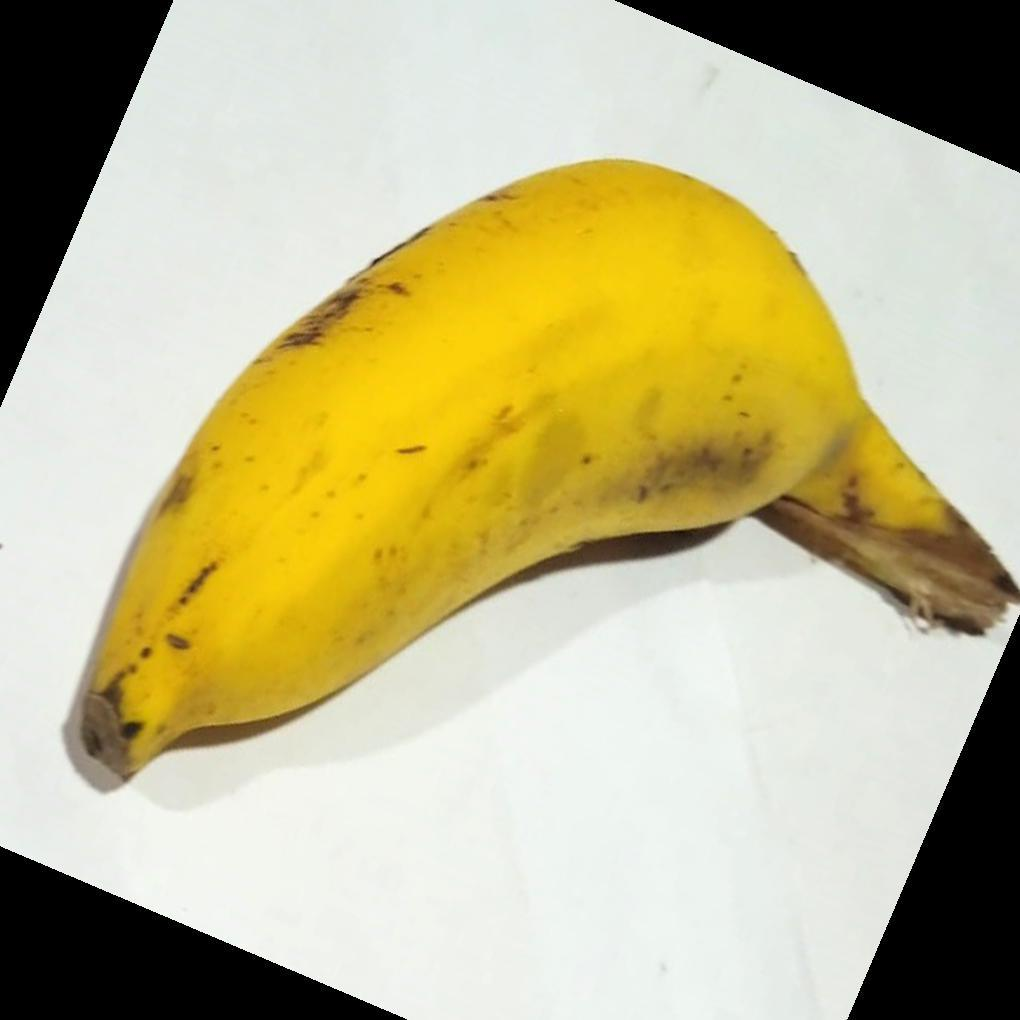Banana Ripe: (58, 144, 1013, 797)
